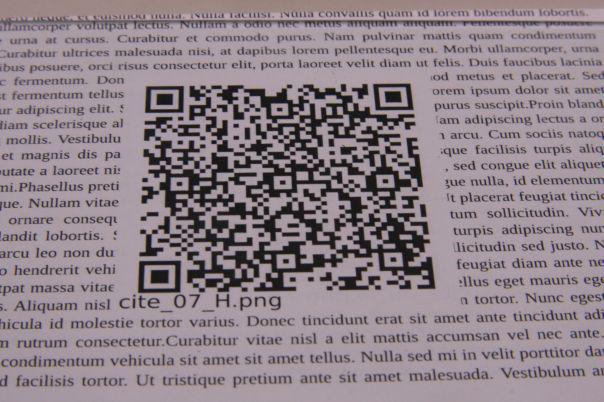Finder pattern: (134, 258, 187, 298), (141, 84, 189, 115), (372, 80, 416, 111)
